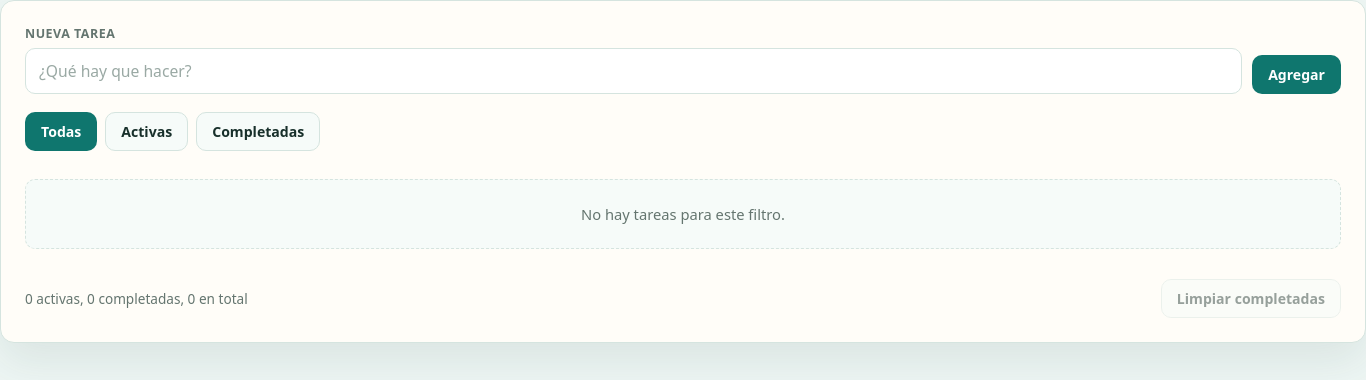
TasksDashboard › agrega una tarea desde el formulario
In the field labelled "Nueva tarea": (634, 71) [25,48,1242,94], type "Escribir el guion"
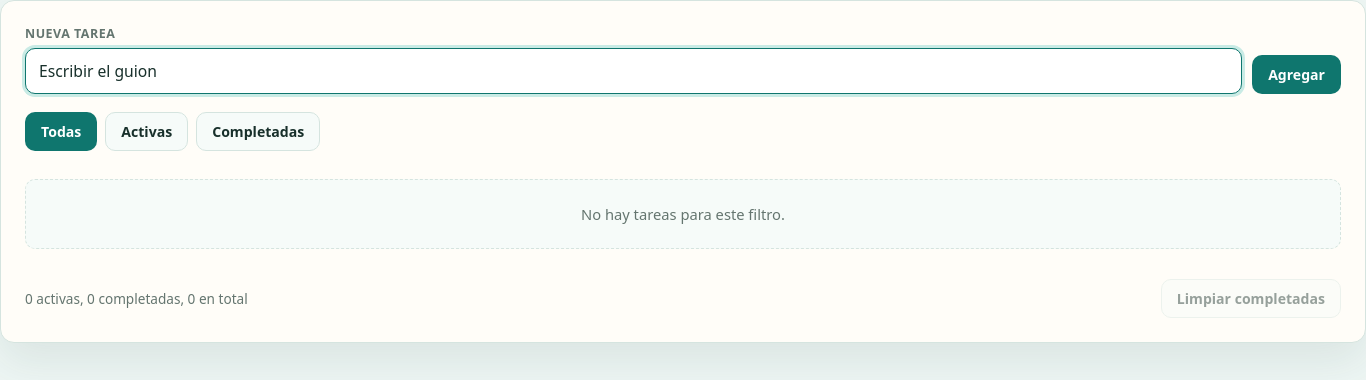
Click the button "Agregar": (1297, 74) [1252,55,1341,94]
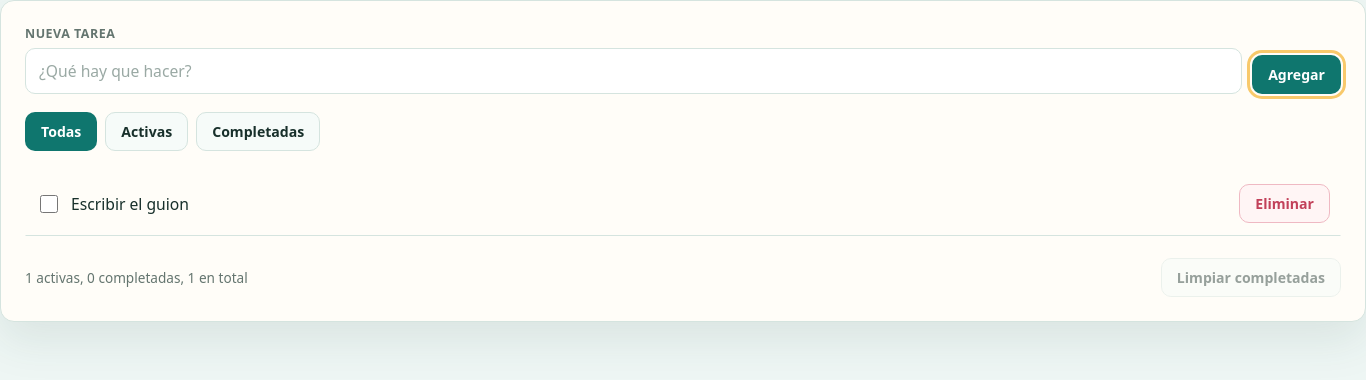
Now the text "Escribir el guion" is shown, box [71,192,189,214]
